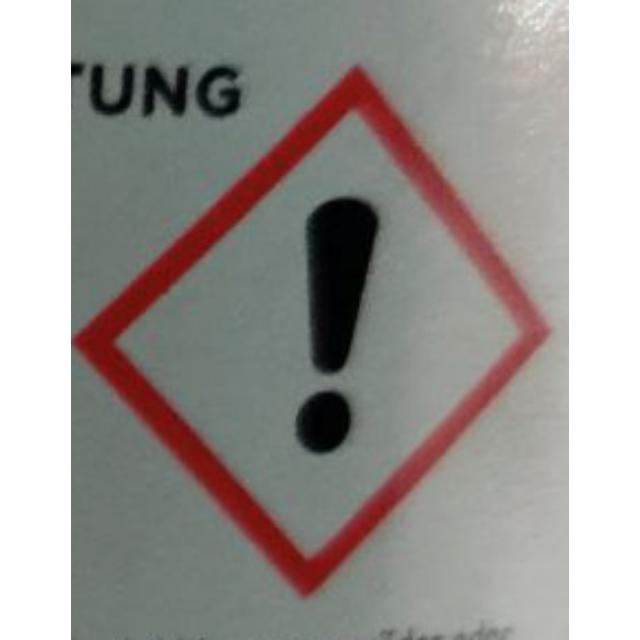health-ozone layer hazard: (71, 62, 552, 598)
